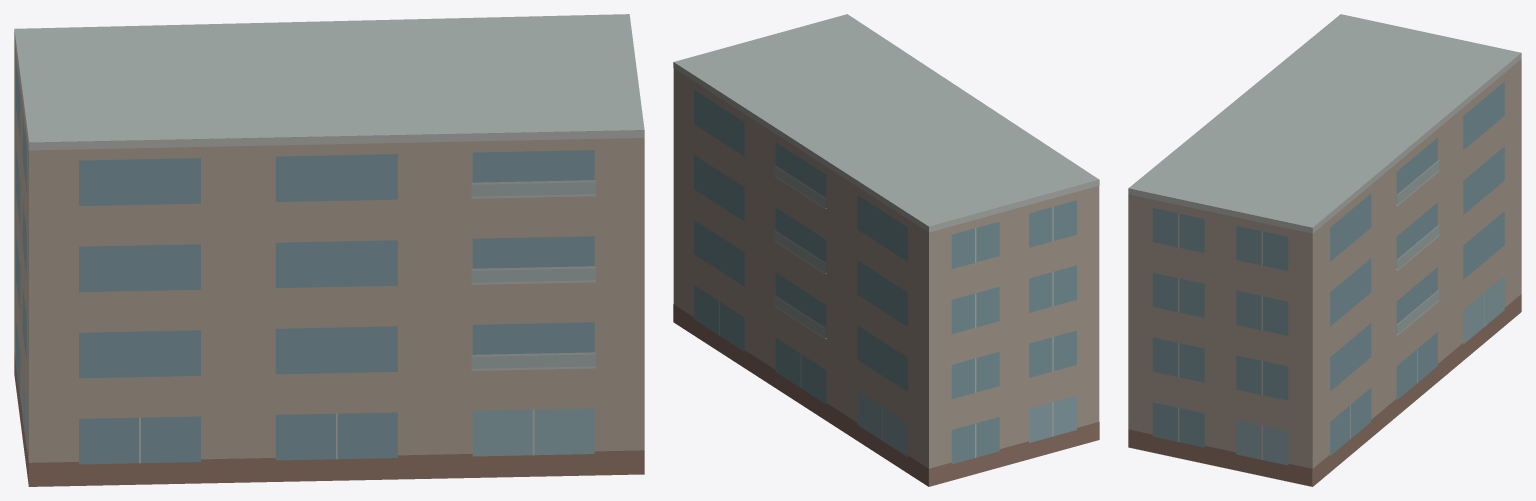
File: survey-upis-32888535.glb
3 views of the same model, side by side, from view 1: azimuth 30°, elevation 25°; view 2: azimuth 150°, elevation 25°; view 3: azimuth 270°, elevation 25° (orthographic). The views are drawn at different scales.
Parts seen in each view (by area): view 1: survey-upis-32888535.tmp; view 2: survey-upis-32888535.tmp; view 3: survey-upis-32888535.tmp.
Boxes of the visible parts, <box> form: survey-upis-32888535.tmp: <box>14,14,644,486</box>; survey-upis-32888535.tmp: <box>673,14,1099,486</box>; survey-upis-32888535.tmp: <box>1128,14,1521,486</box>.
Bounding box in the file's own units: 18.76 × 10.6 × 14.58.
